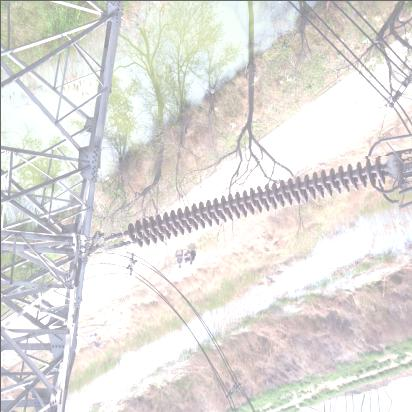insulator: (103, 159, 400, 251)
